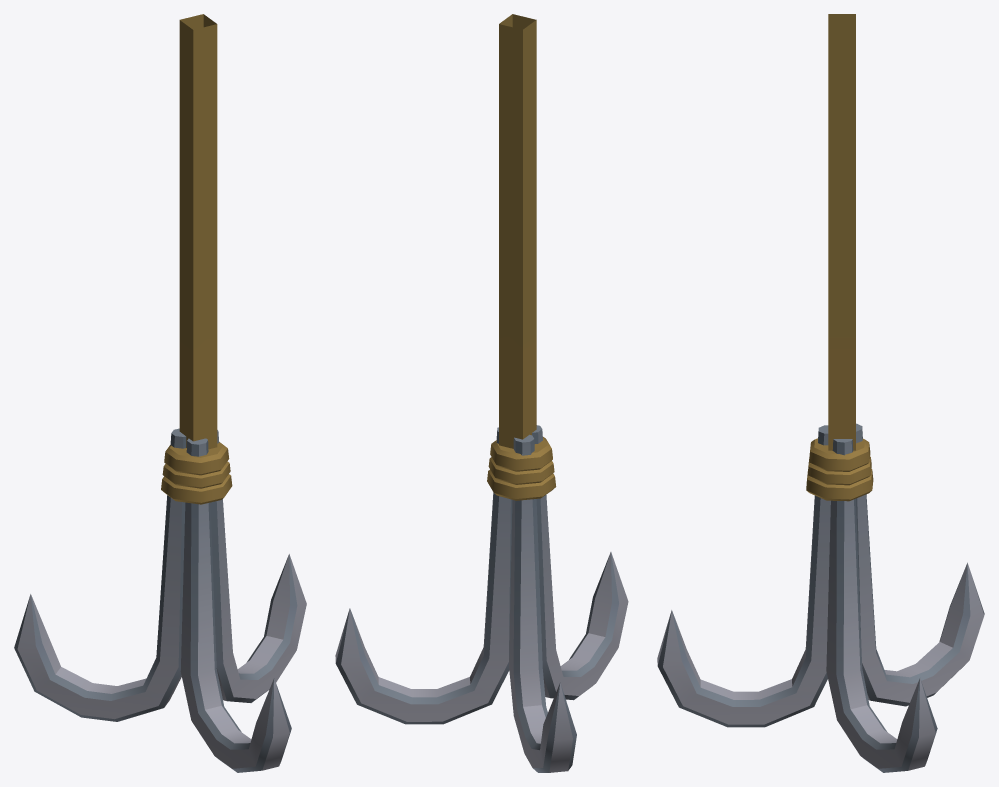
The model's file is Hook_2_C.glb.
The picture shows the model from 3 angles, left to right: view 1: azimuth 30°, elevation 25°; view 2: azimuth 150°, elevation 25°; view 3: azimuth 270°, elevation 25°; orthographic projection.
Parts seen in each view (by area): view 1: Hook_2_C; view 2: Hook_2_C; view 3: Hook_2_C.
Part boxes in pixels (x1,y1,x2,y2): Hook_2_C: (14, 14, 306, 772); Hook_2_C: (335, 14, 628, 772); Hook_2_C: (657, 14, 984, 772).
Bounding box in the file's own units: 0.1615 × 0.4106 × 0.172.
2 materials, 2 textured.
